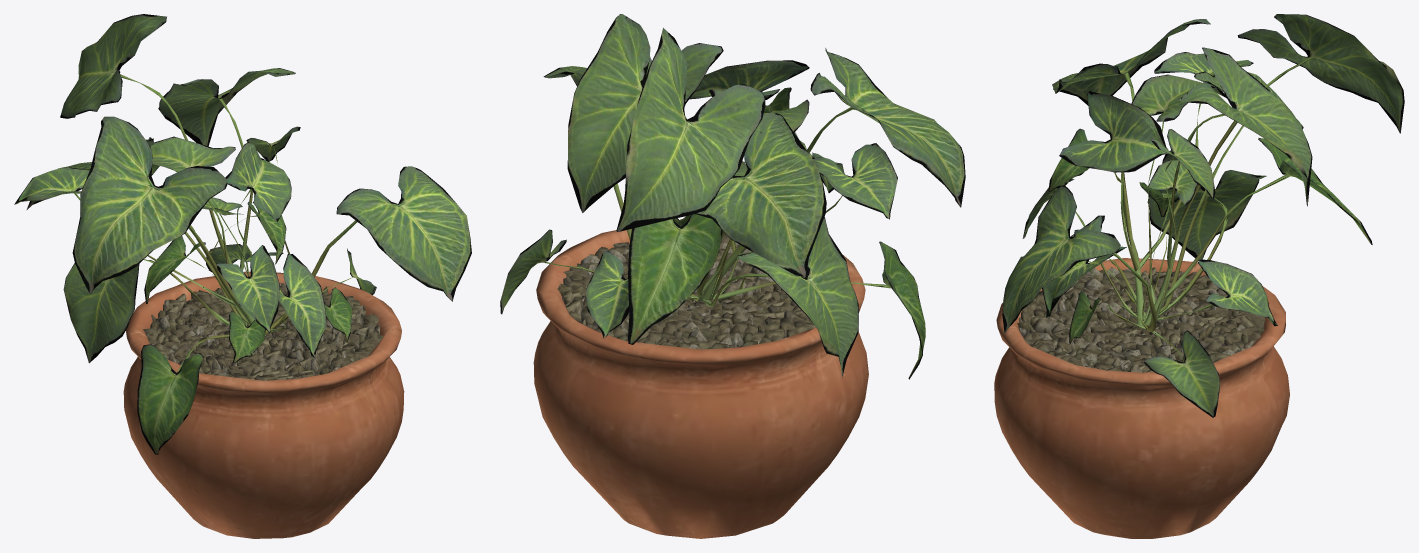
The model's file is PH-potted_plant_02.glb.
The picture shows the model from 3 angles, left to right: view 1: azimuth 30°, elevation 25°; view 2: azimuth 150°, elevation 25°; view 3: azimuth 270°, elevation 25°; orthographic projection. The views are drawn at different scales.
Parts seen in each view (by area): view 1: potted_plant_02_leaves, potted_plant_02_pot, potted_plant_02_dirt; view 2: potted_plant_02_leaves, potted_plant_02_pot, potted_plant_02_dirt; view 3: potted_plant_02_leaves, potted_plant_02_pot, potted_plant_02_dirt.
Boxes of the visible parts, x1=… form: potted_plant_02_leaves: x1=14, y1=14, x2=471, y2=454; potted_plant_02_pot: x1=123, y1=271, x2=404, y2=538; potted_plant_02_dirt: x1=143, y1=283, x2=383, y2=380; potted_plant_02_leaves: x1=500, y1=14, x2=965, y2=379; potted_plant_02_pot: x1=533, y1=230, x2=868, y2=538; potted_plant_02_dirt: x1=557, y1=233, x2=815, y2=349; potted_plant_02_leaves: x1=1002, y1=14, x2=1404, y2=417; potted_plant_02_pot: x1=994, y1=258, x2=1289, y2=538; potted_plant_02_dirt: x1=1017, y1=267, x2=1264, y2=372.
Size of the model in its own units: 0.7012 by 0.8401 by 0.6561.
2 materials, 2 textured.
